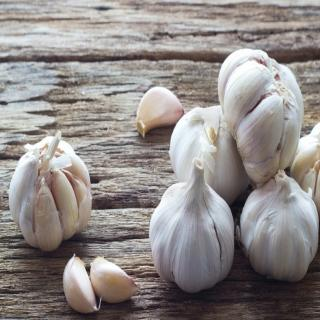Bawang Putih: (8, 128, 96, 253)
